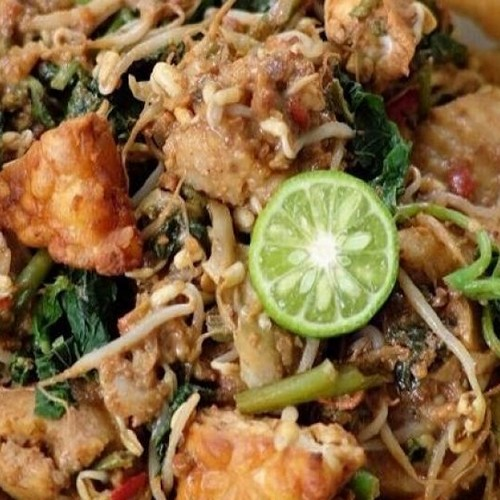tipat cantok: (4, 19, 476, 484)
